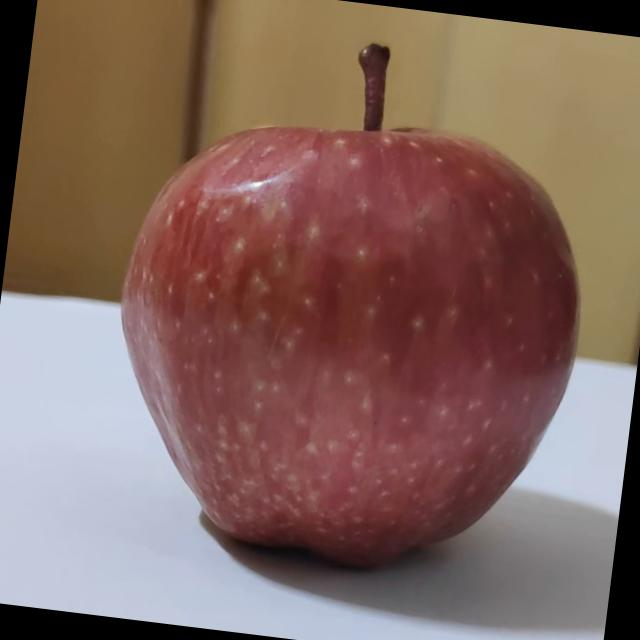apple: (88, 13, 612, 594)
